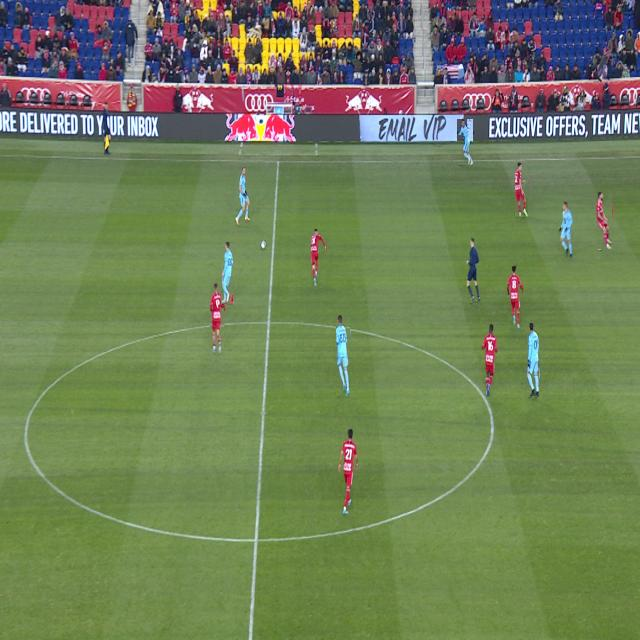football: (261, 241, 266, 250)
player: (339, 429, 358, 514), (336, 316, 350, 396), (482, 325, 497, 396), (211, 283, 224, 353), (235, 167, 250, 226), (508, 266, 522, 329), (311, 229, 326, 287), (597, 192, 612, 249), (528, 324, 539, 397), (515, 163, 528, 217), (458, 119, 473, 165), (560, 202, 572, 258), (222, 243, 233, 304)
referee: (467, 238, 480, 303)
